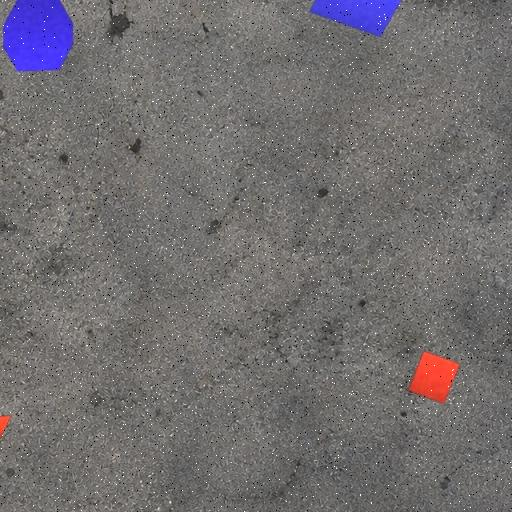BLUE_SQUARE: (309, 0, 420, 38)
RED_SQUARE: (408, 350, 461, 404)
